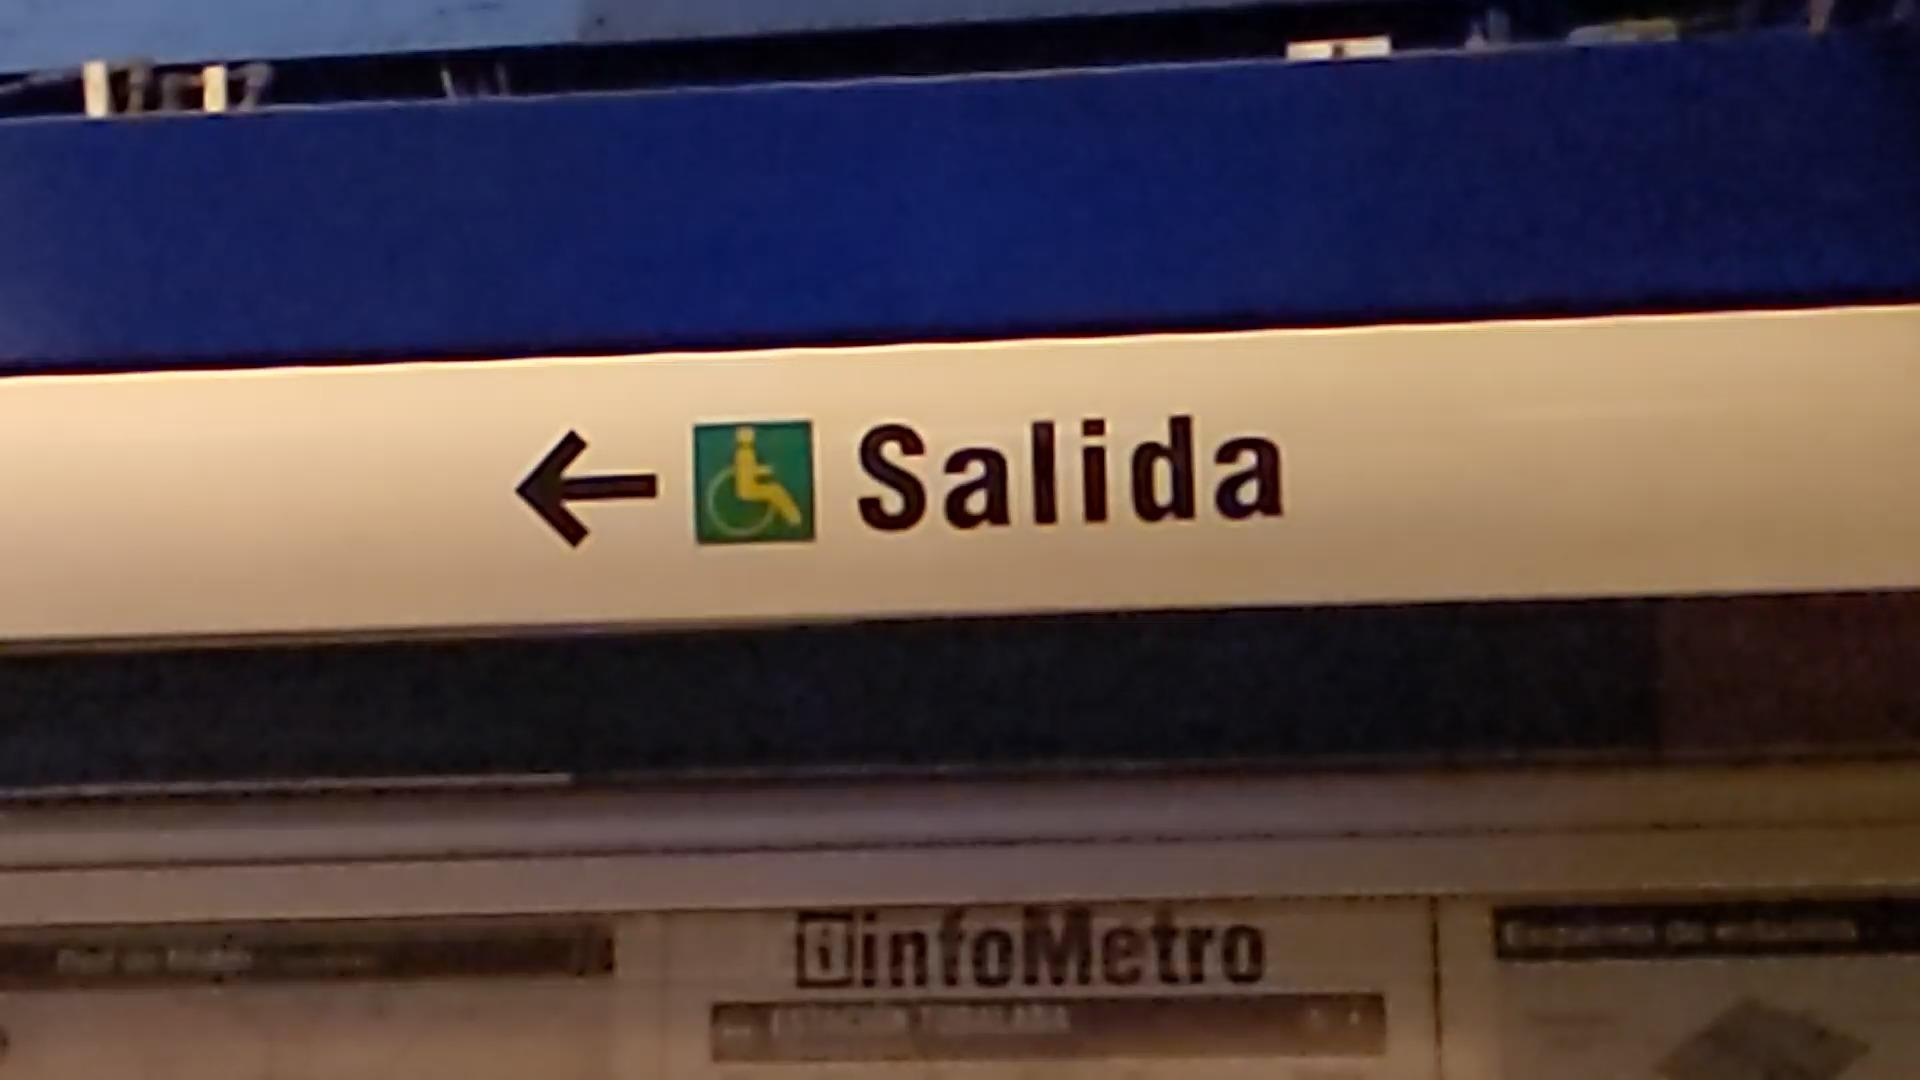handicapped symbol: (705, 425, 804, 538)
left: (510, 421, 667, 559)
